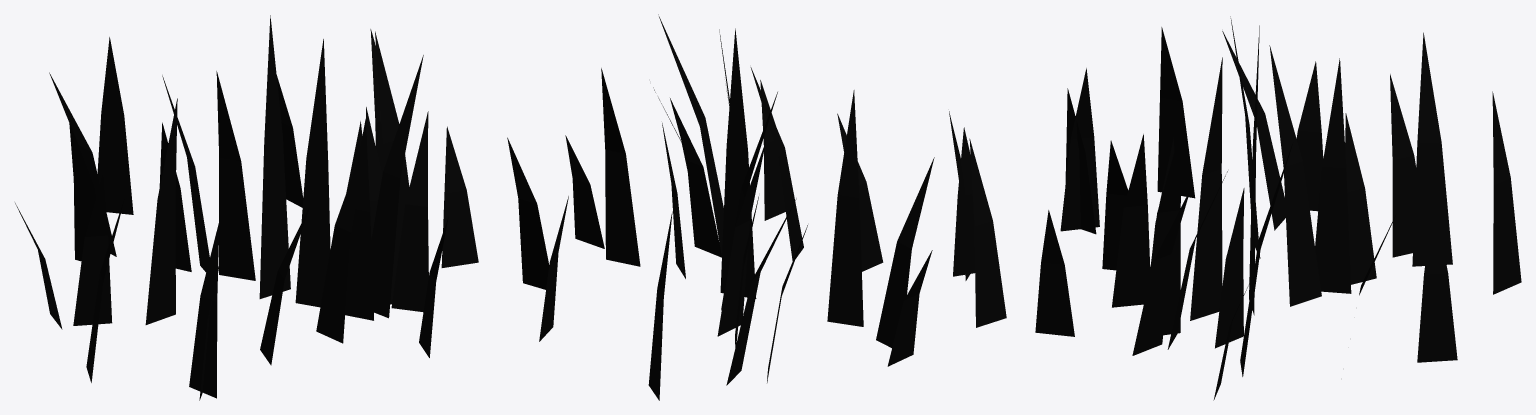
Rendered from SM_grass.fbx.
3 views of the same model, side by side, from view 1: azimuth 30°, elevation 25°; view 2: azimuth 150°, elevation 25°; view 3: azimuth 270°, elevation 25° (orthographic). The views are drawn at different scales.
Parts seen in each view (by area): view 1: grass; view 2: grass; view 3: grass.
Boxes of the visible parts, x1=… form: grass: x1=15, y1=15, x2=478, y2=400; grass: x1=507, y1=14, x2=1006, y2=400; grass: x1=1035, y1=16, x2=1521, y2=400.
Size of the model in its own units: 0.4862 by 0.3106 by 0.4764.
